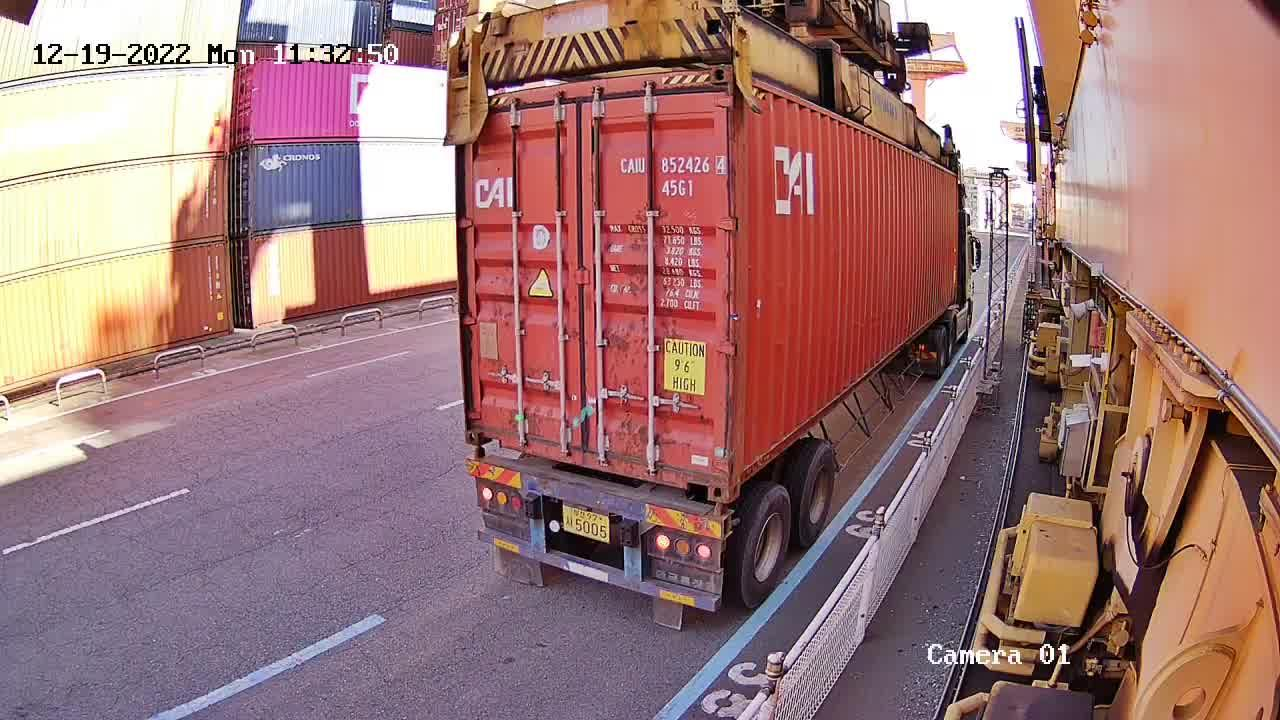Chassis: (467, 455, 730, 542)
Cone: (709, 503, 731, 536), (468, 445, 487, 476)
Hole_L: (730, 442, 757, 498), (465, 404, 495, 449)
Hole_R: (679, 451, 728, 499)
Tire: (742, 489, 789, 604), (797, 447, 835, 544)
